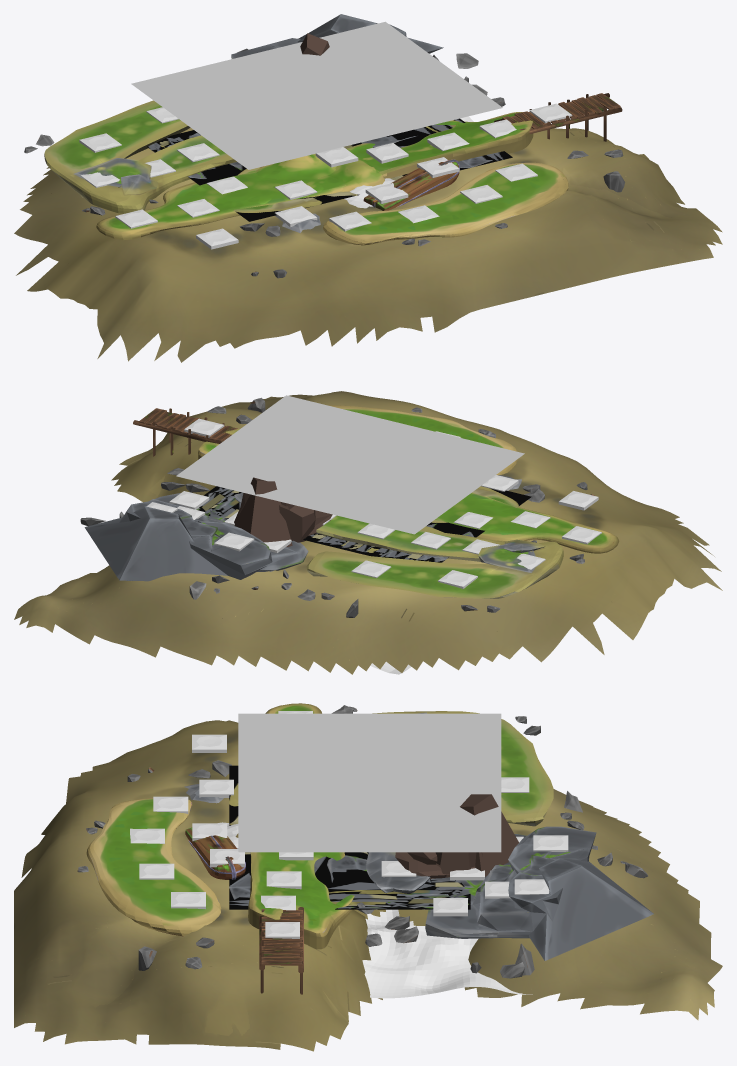
File: Ababord Island Mid 2.fbx
3 views of the same model, one above another, from view 1: azimuth 30°, elevation 25°; view 2: azimuth 150°, elevation 25°; view 3: azimuth 270°, elevation 25° (orthographic). The views are drawn at different scales.
Parts seen in each view (by area): view 1: Fond Île Mid 2, Plane.001, Bateau.001, Poteau Jetée.001, Poteau Jetée, Plane, Case Mesh Ligne Bas 1-.003, Case Mesh Ligne Bas 1-.013, Case Mesh Ligne Bas 1-.014, Case Mesh Ligne Bas 1-.032; view 2: Fond Île Mid 2, Plane.001, Poteau Jetée.001, Bateau.001, Poteau Jetée, Plane, Cube.003, Cylinder.002, Case Mesh Ligne Bas 1-.003, Case Mesh Ligne Bas 1-.028; view 3: Fond Île Mid 2, Plane.001, Poteau Jetée.001, Bateau.001, Fond Île Mid 2 Reste, Poteau Jetée, Plane, Cube.003, Cube.004, Case Mesh Ligne Bas 1-.003, Case Mesh Ligne Bas 1-.028, Cube.006 (+7 smaller).
Boxes of the visible parts, bbox=[...] form: Fond Île Mid 2: bbox=[14, 127, 722, 362]; Plane.001: bbox=[131, 21, 502, 169]; Bateau.001: bbox=[96, 112, 568, 245]; Poteau Jetée.001: bbox=[44, 14, 443, 232]; Poteau Jetée: bbox=[24, 48, 624, 278]; Plane: bbox=[147, 118, 512, 221]; Case Mesh Ligne Bas 1-.003: bbox=[196, 228, 238, 249]; Case Mesh Ligne Bas 1-.013: bbox=[366, 143, 408, 163]; Case Mesh Ligne Bas 1-.014: bbox=[315, 147, 358, 167]; Case Mesh Ligne Bas 1-.032: bbox=[365, 183, 408, 203]; Fond Île Mid 2: bbox=[14, 391, 722, 674]; Plane.001: bbox=[176, 395, 524, 534]; Poteau Jetée.001: bbox=[84, 475, 563, 598]; Bateau.001: bbox=[198, 405, 619, 553]; Poteau Jetée: bbox=[80, 397, 594, 617]; Plane: bbox=[196, 486, 531, 562]; Cube.003: bbox=[234, 477, 292, 546]; Cylinder.002: bbox=[279, 504, 315, 542]; Case Mesh Ligne Bas 1-.003: bbox=[558, 491, 598, 510]; Case Mesh Ligne Bas 1-.028: bbox=[169, 491, 209, 509]; Fond Île Mid 2: bbox=[14, 720, 722, 1051]; Plane.001: bbox=[238, 713, 501, 852]; Poteau Jetée.001: bbox=[184, 711, 653, 960]; Bateau.001: bbox=[86, 703, 354, 949]; Fond Île Mid 2 Reste: bbox=[362, 909, 532, 998]; Poteau Jetée: bbox=[77, 705, 647, 994]; Plane: bbox=[229, 765, 470, 909]; Cube.003: bbox=[460, 794, 518, 876]; Cube.004: bbox=[395, 852, 475, 878]; Case Mesh Ligne Bas 1-.003: bbox=[192, 734, 226, 752]; Case Mesh Ligne Bas 1-.028: bbox=[433, 898, 467, 916]; Cube.006: bbox=[435, 852, 471, 874].
Size of the model in its own units: 13535 by 2950 by 12488.
